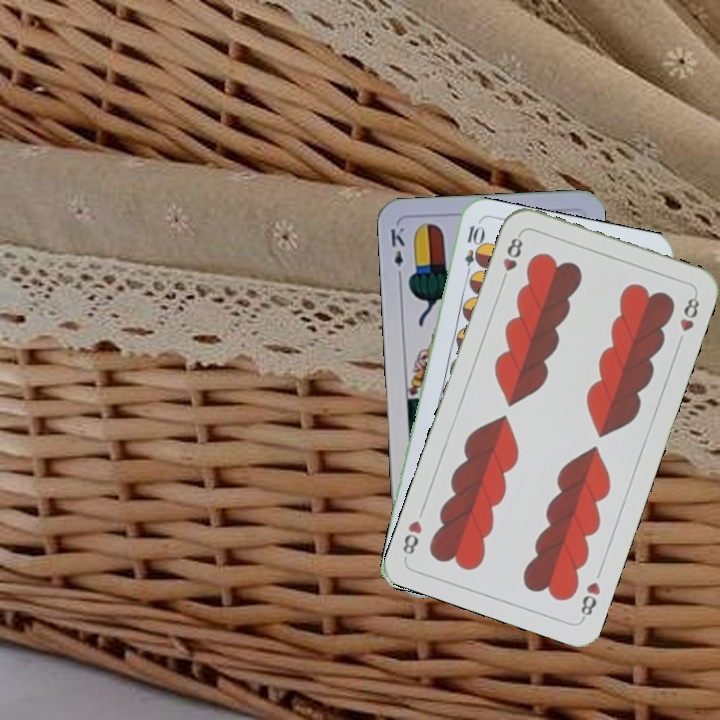E10: (460, 221, 484, 281)
EK: (386, 223, 408, 282)
H8: (497, 230, 525, 287), (576, 577, 603, 623)
